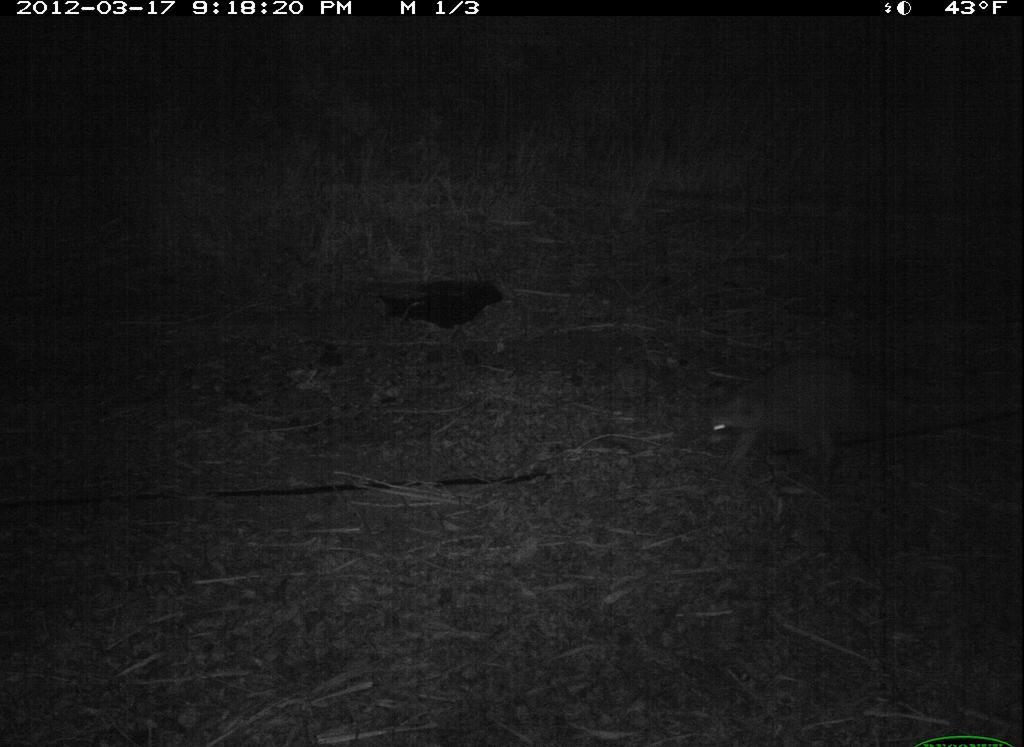raccoon: (694, 340, 927, 495)
